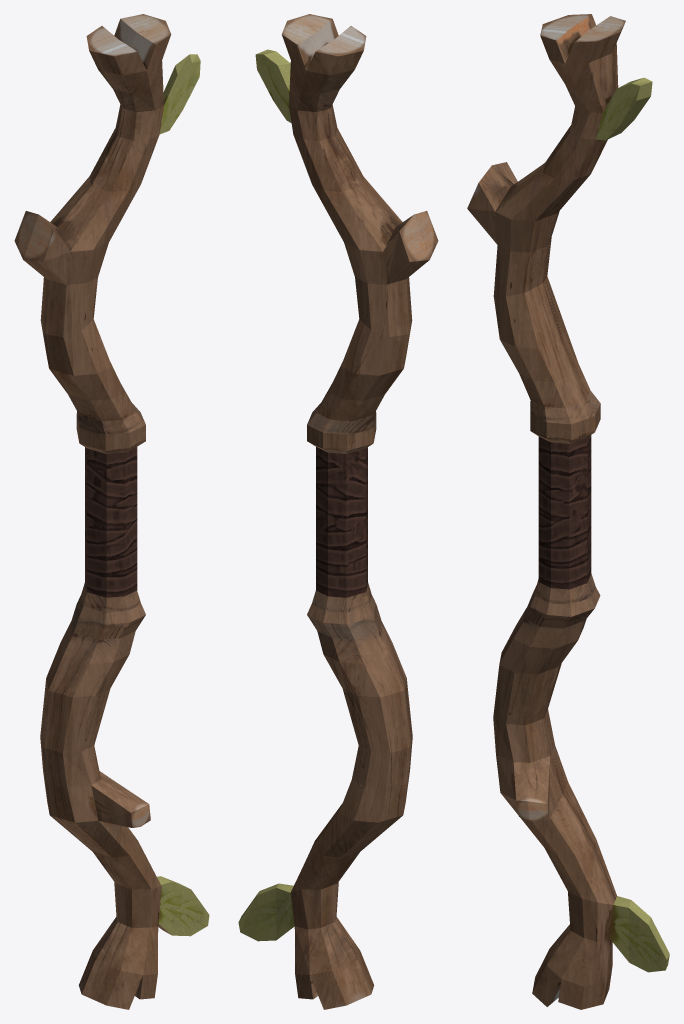
Rendered from Wood Bow.fbx.
3 renders of one model, left to right at view 1: azimuth 30°, elevation 25°; view 2: azimuth 150°, elevation 25°; view 3: azimuth 330°, elevation 25°, orthographic.
Parts seen in each view (by area): view 1: Wood_Bow; view 2: Wood_Bow; view 3: Wood_Bow.
Part boxes in pixels (x1,y1,x2,y2): Wood_Bow: [14, 14, 209, 1009]; Wood_Bow: [238, 14, 438, 1009]; Wood_Bow: [467, 14, 669, 1009].
Size of the model in its own units: 76.83 by 377 by 37.26.
